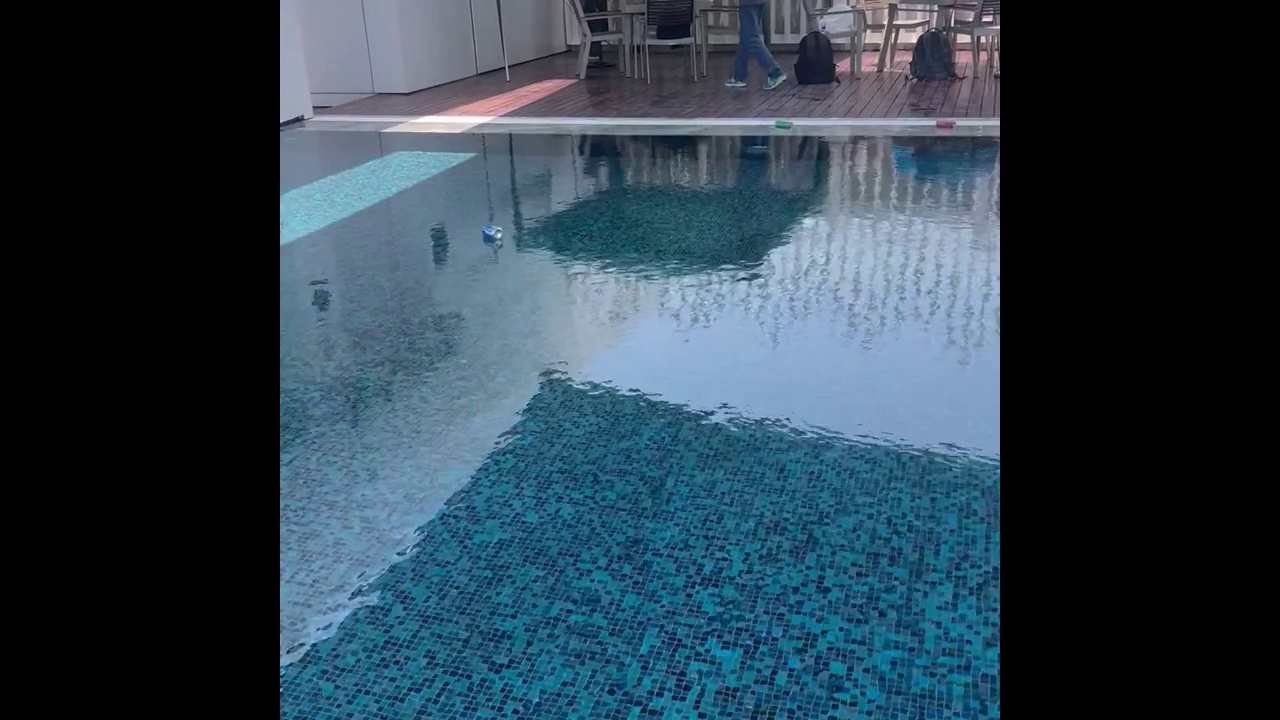debris: (479, 220, 507, 245), (772, 116, 798, 133), (934, 115, 958, 132)
